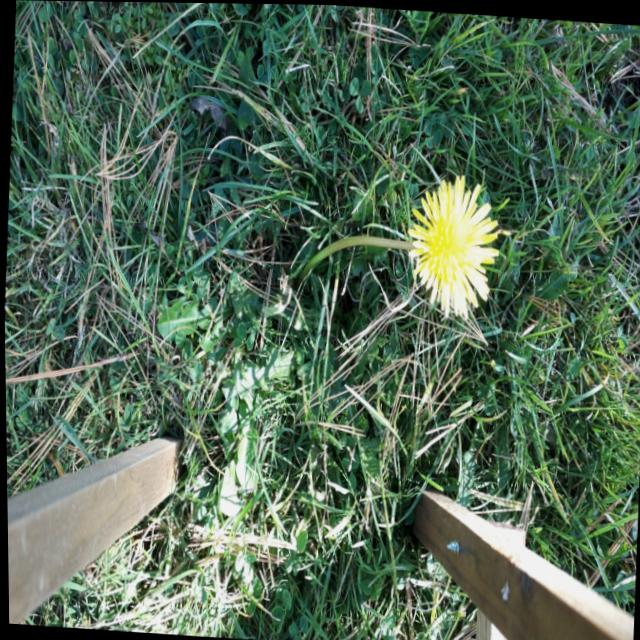base: (289, 261, 309, 296)
flower: (403, 171, 501, 312)
